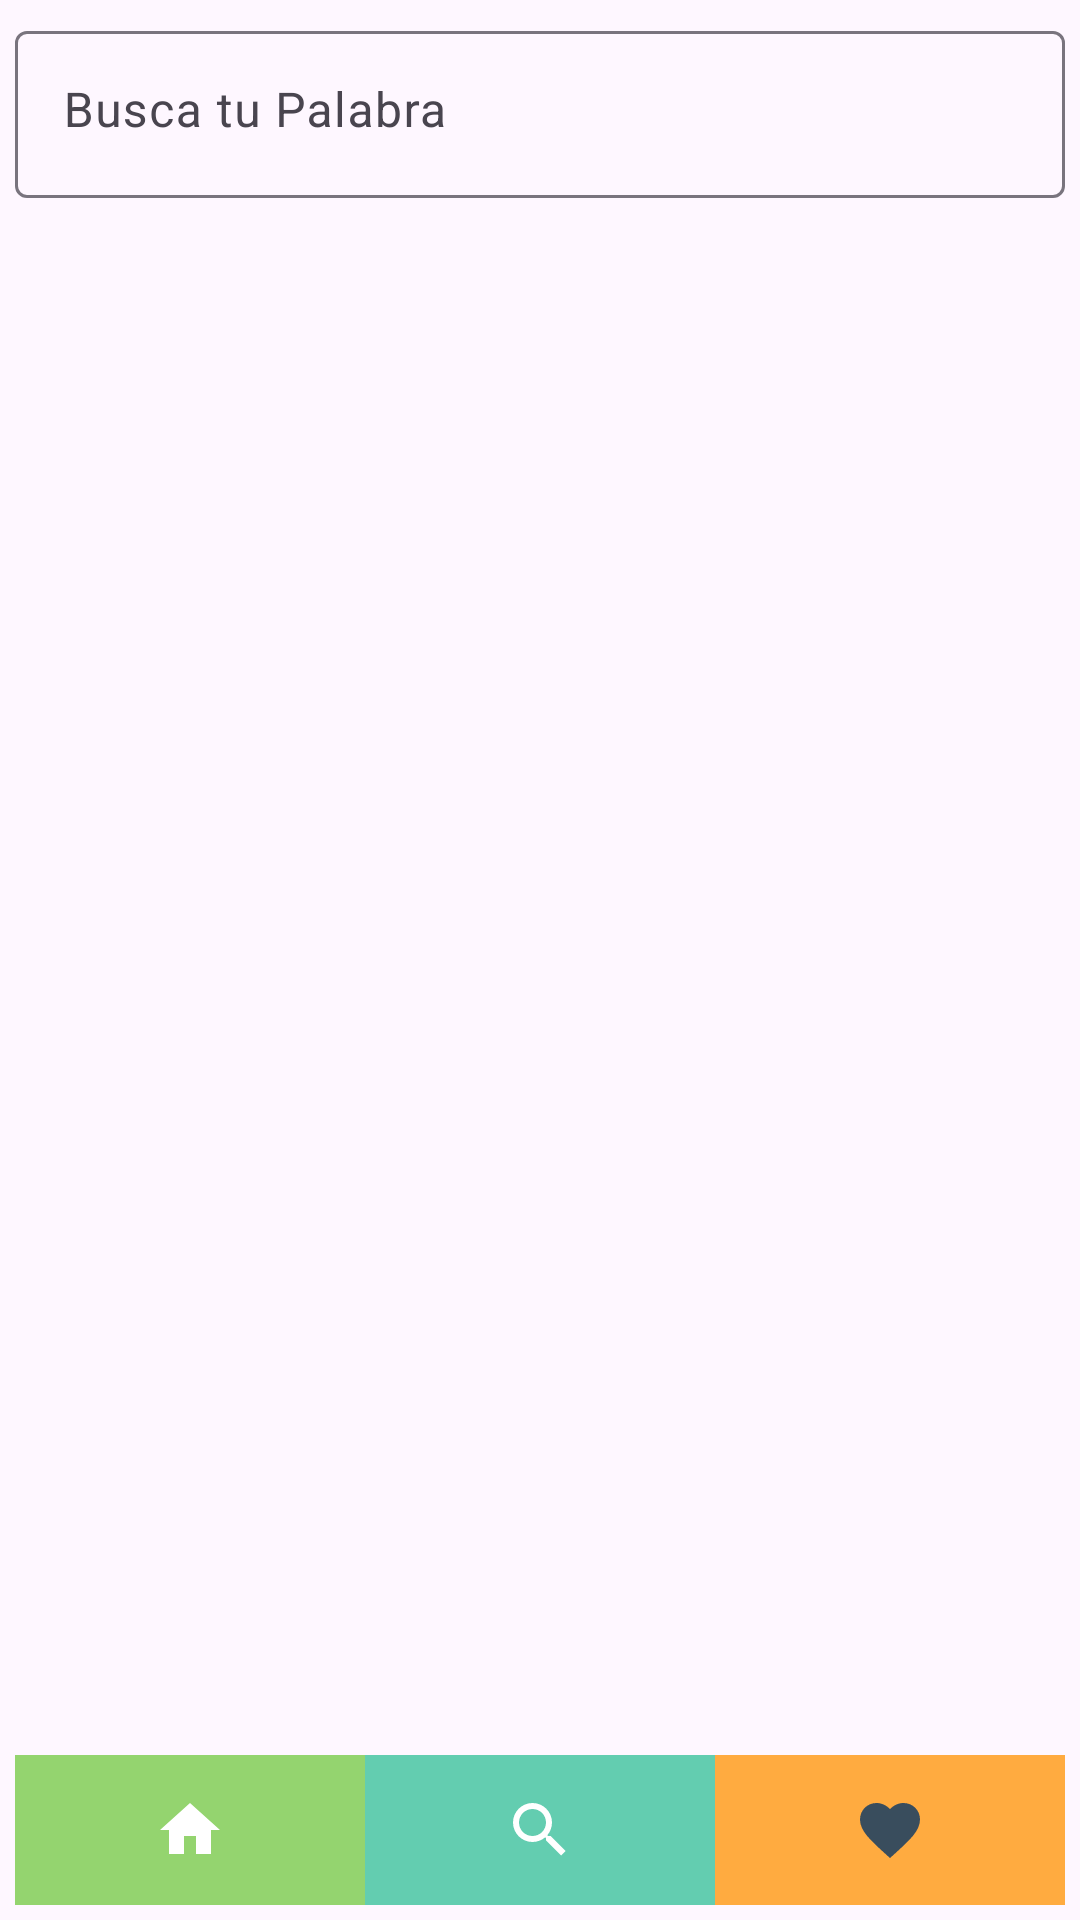

Icons on this 1080 x 1920 Android screen, each with the point to tap as [x,y]:
Boton Buscar: [540,1830]
Boton Favoritos: [890,1830]
Boton Home: [190,1830]
